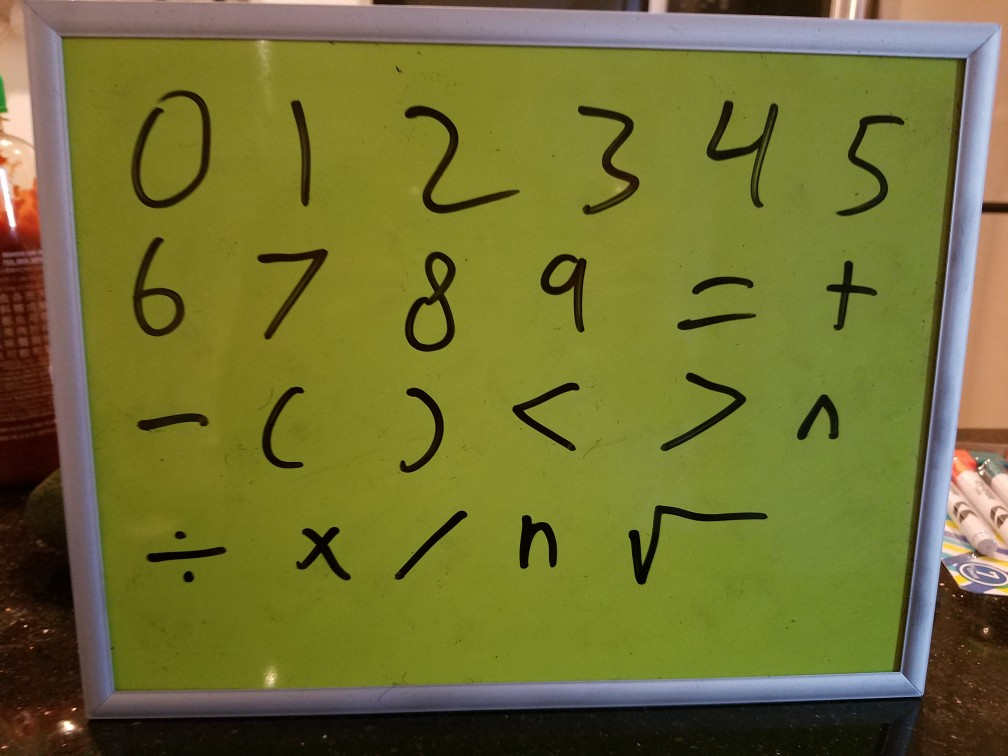(: (246, 364, 329, 489)
): (383, 376, 458, 476)
+: (798, 247, 893, 338)
-: (134, 398, 212, 447)
/: (388, 499, 473, 593)
0: (124, 74, 226, 226)
1: (274, 89, 328, 212)
2: (393, 82, 520, 224)
3: (559, 88, 656, 222)
4: (695, 86, 789, 218)
5: (827, 88, 907, 234)
6: (121, 227, 192, 345)
7: (242, 232, 335, 350)
8: (379, 238, 483, 369)
9: (526, 242, 611, 350)
<: (500, 368, 589, 456)
=: (666, 256, 775, 345)
>: (653, 356, 753, 457)
^: (787, 386, 853, 453)
div: (136, 512, 235, 597)
n: (505, 504, 565, 583)
sqrt: (616, 486, 777, 598)
x: (283, 509, 358, 598)
